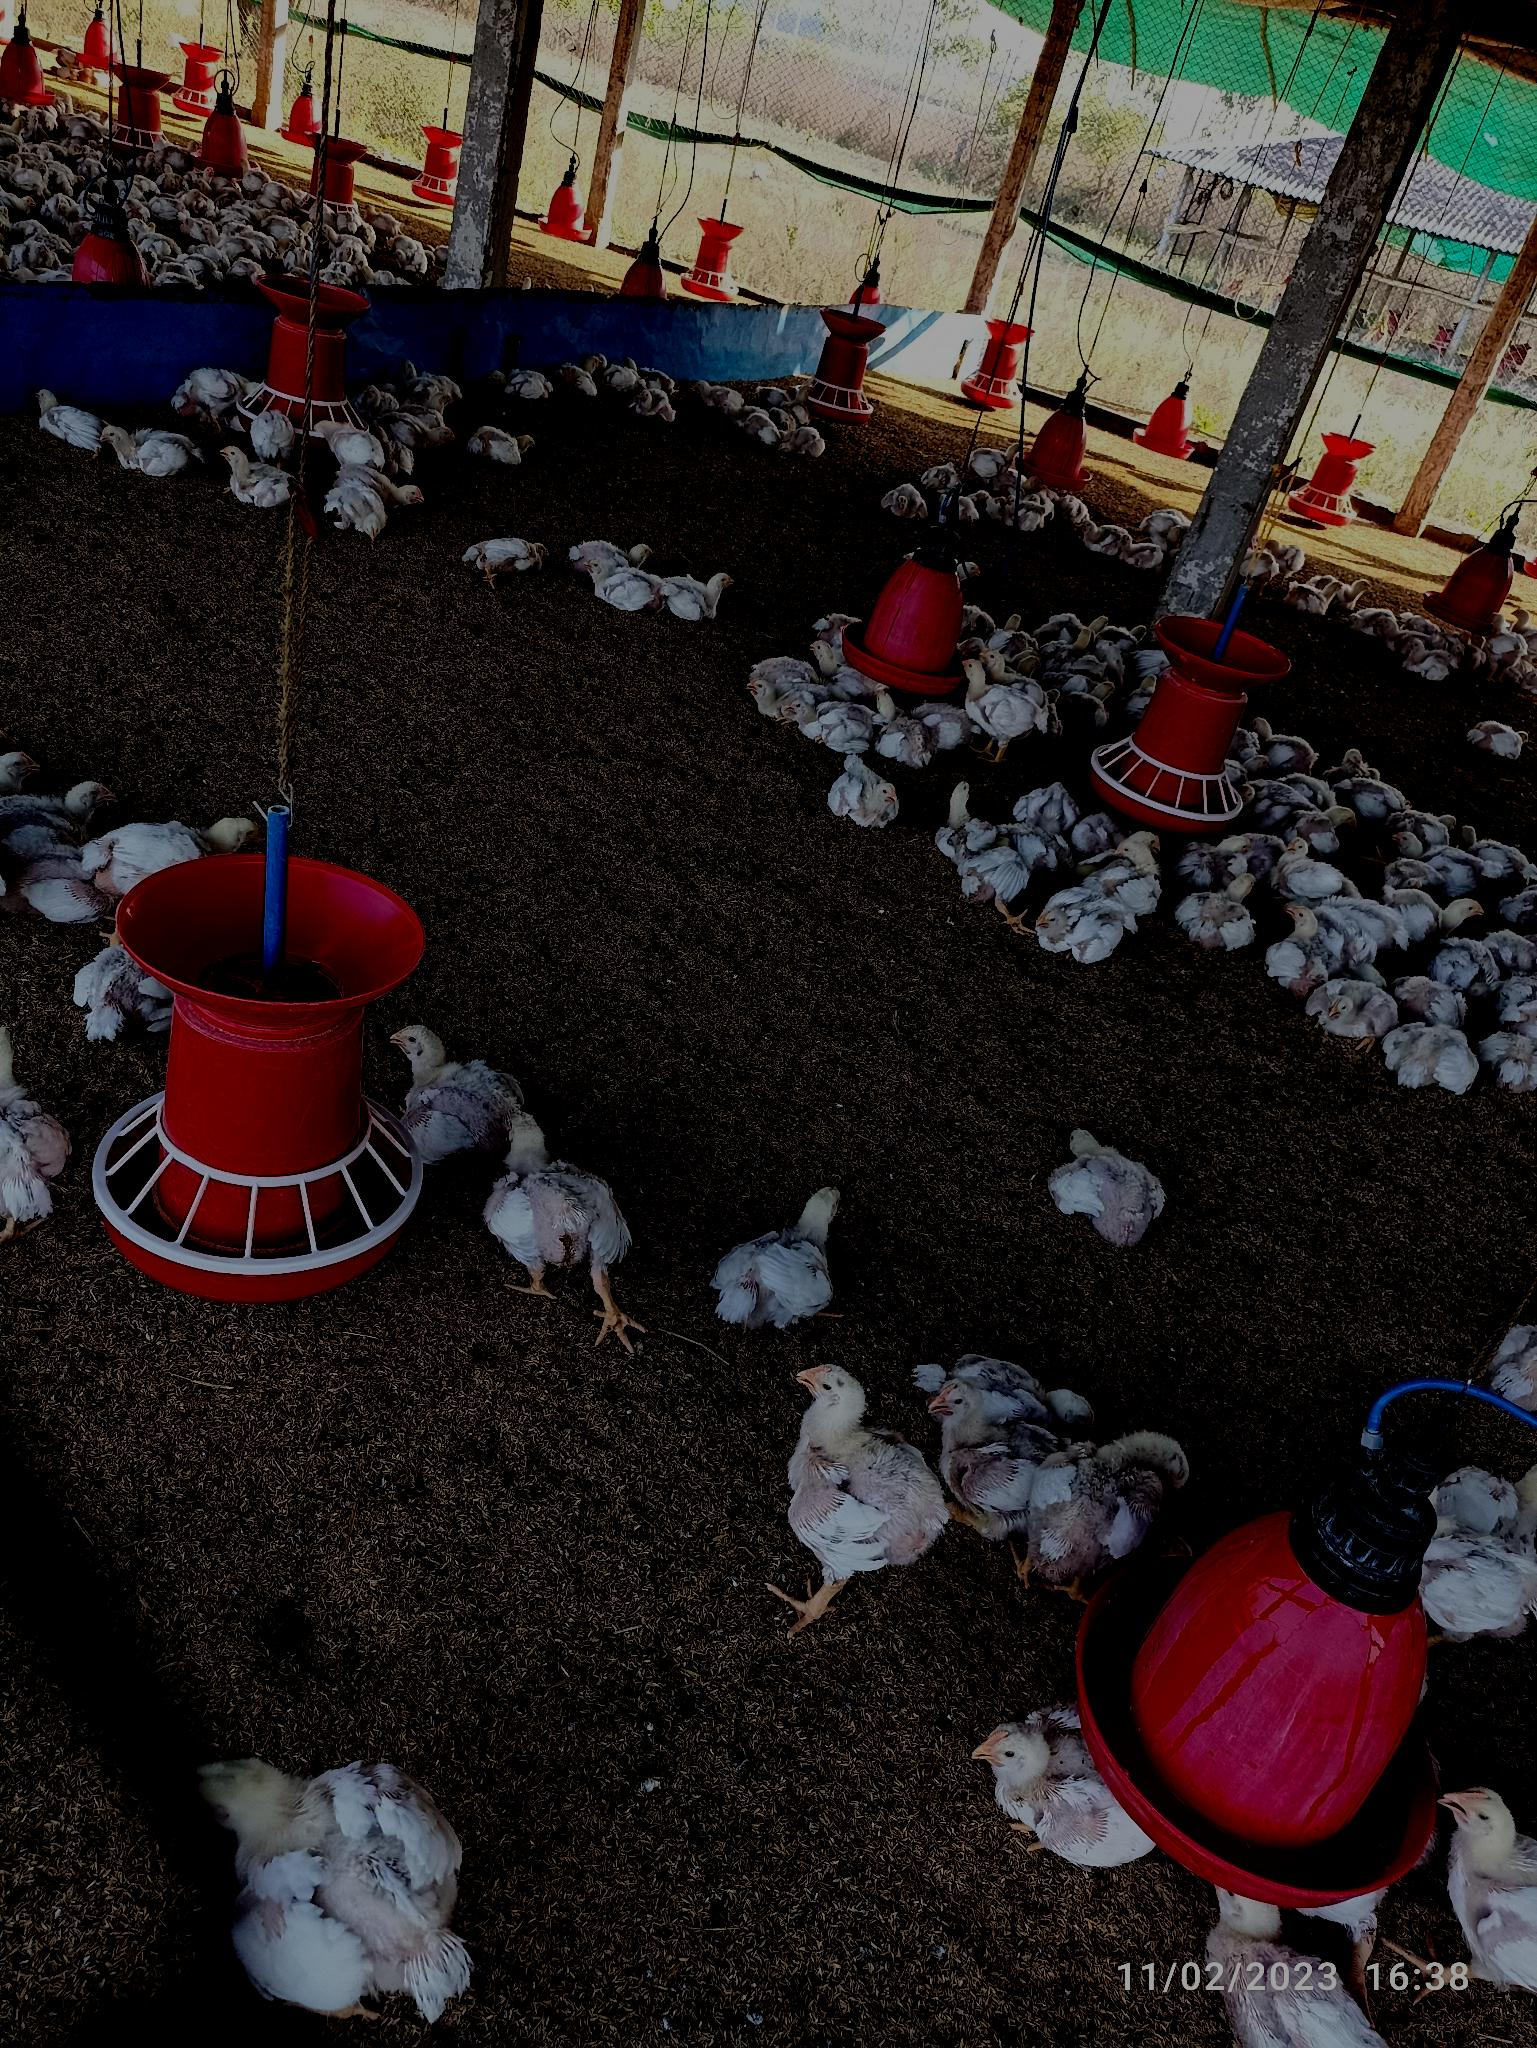Pollos: (150, 1728, 484, 2016), (789, 1360, 940, 1586), (1027, 1423, 1204, 1593), (718, 1177, 862, 1340), (497, 1109, 634, 1265), (1439, 1778, 1537, 1995), (387, 1022, 544, 1151), (1057, 1126, 1171, 1252), (2, 776, 123, 867), (943, 776, 1030, 897), (956, 660, 1053, 742), (90, 420, 203, 483), (828, 759, 906, 841), (1191, 868, 1277, 941), (1271, 904, 1358, 975), (1043, 891, 1133, 957), (325, 466, 420, 526), (1385, 1031, 1492, 1085), (216, 441, 294, 513), (1321, 968, 1392, 1047), (463, 528, 551, 591), (568, 541, 664, 583), (668, 570, 746, 616), (467, 423, 547, 466)
